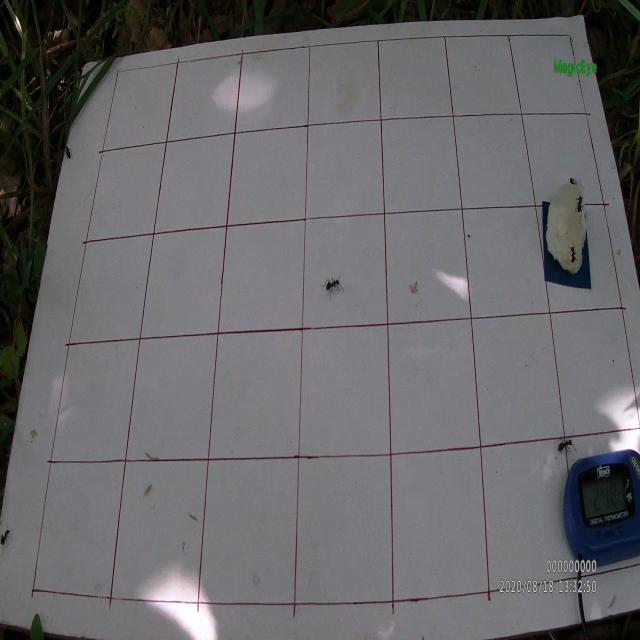Ant: (552, 428, 578, 460), (320, 274, 346, 300), (0, 520, 13, 556), (574, 191, 584, 224), (63, 142, 74, 163), (568, 242, 577, 263)
